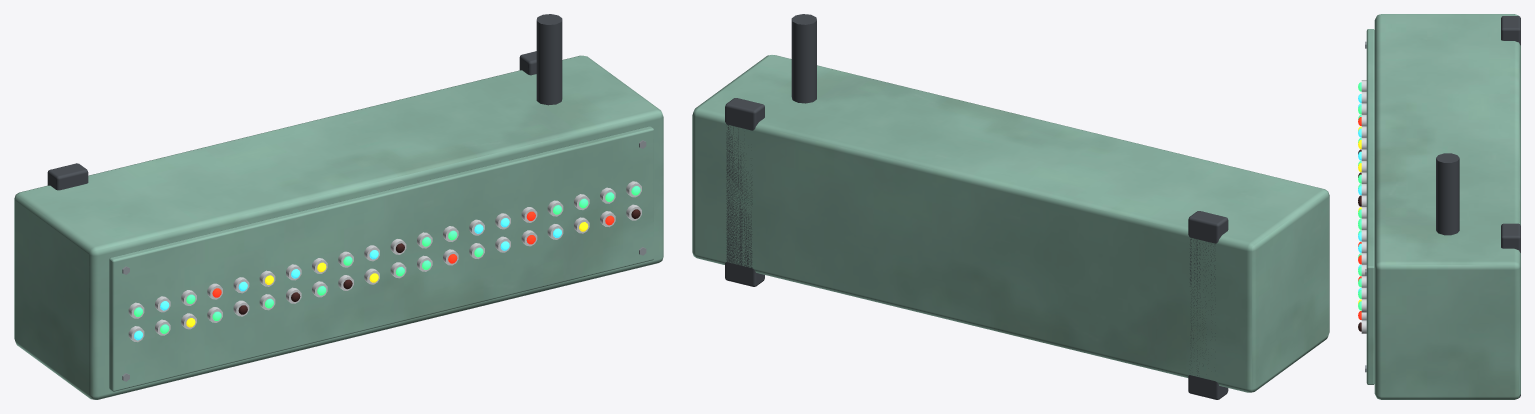
File: WallBox_90_0.glb
3 views of the same model, side by side, from view 1: azimuth 30°, elevation 25°; view 2: azimuth 150°, elevation 25°; view 3: azimuth 270°, elevation 25° (orthographic). The views are drawn at different scales.
Parts seen in each view (by area): view 1: WallBox_90_0_Body; view 2: WallBox_90_0_Body; view 3: WallBox_90_0_Body.
Boxes of the visible parts, x1=… form: WallBox_90_0_Body: x1=14, y1=14, x2=663, y2=399; WallBox_90_0_Body: x1=692, y1=14, x2=1329, y2=399; WallBox_90_0_Body: x1=1358, y1=14, x2=1520, y2=399.
Bounding box in the file's own units: 0.9 × 0.37 × 0.2452.
Materials: 9 (1 with a texture image).
